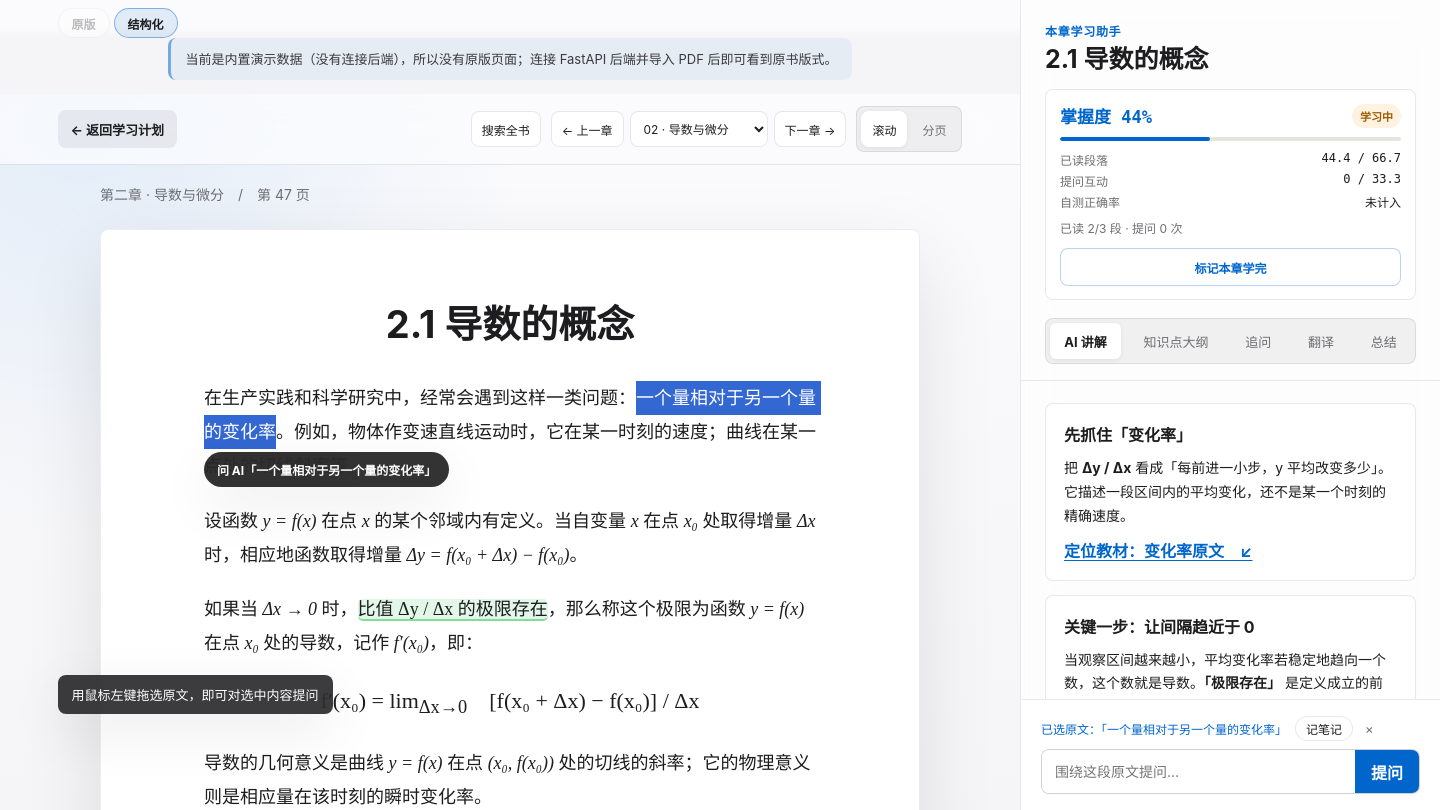
Scenario: 划词气泡与追问线程 › 点击气泡会为该段原文开一条追问线程并打开浮层
Click the button with test id "selection-bubble" at x=327, y=469, box 204,452 -> 449,487
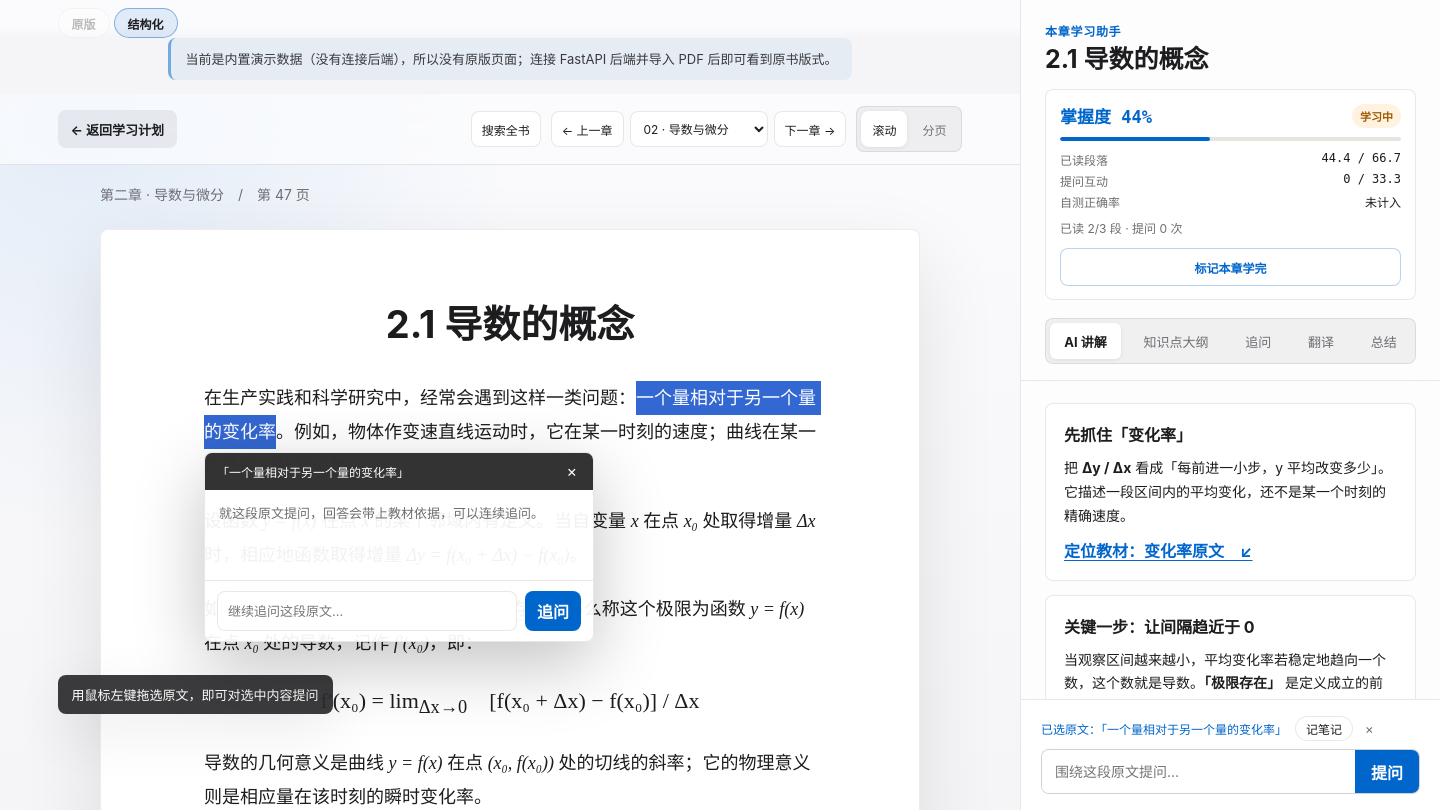
Expected: the dialog with test id "selection-panel" is shown, 204,452 -> 594,642
Expected: the text "就这段原文提问，回答会带上教材依据，可以连续追问。" is shown, 219,502 -> 579,524
